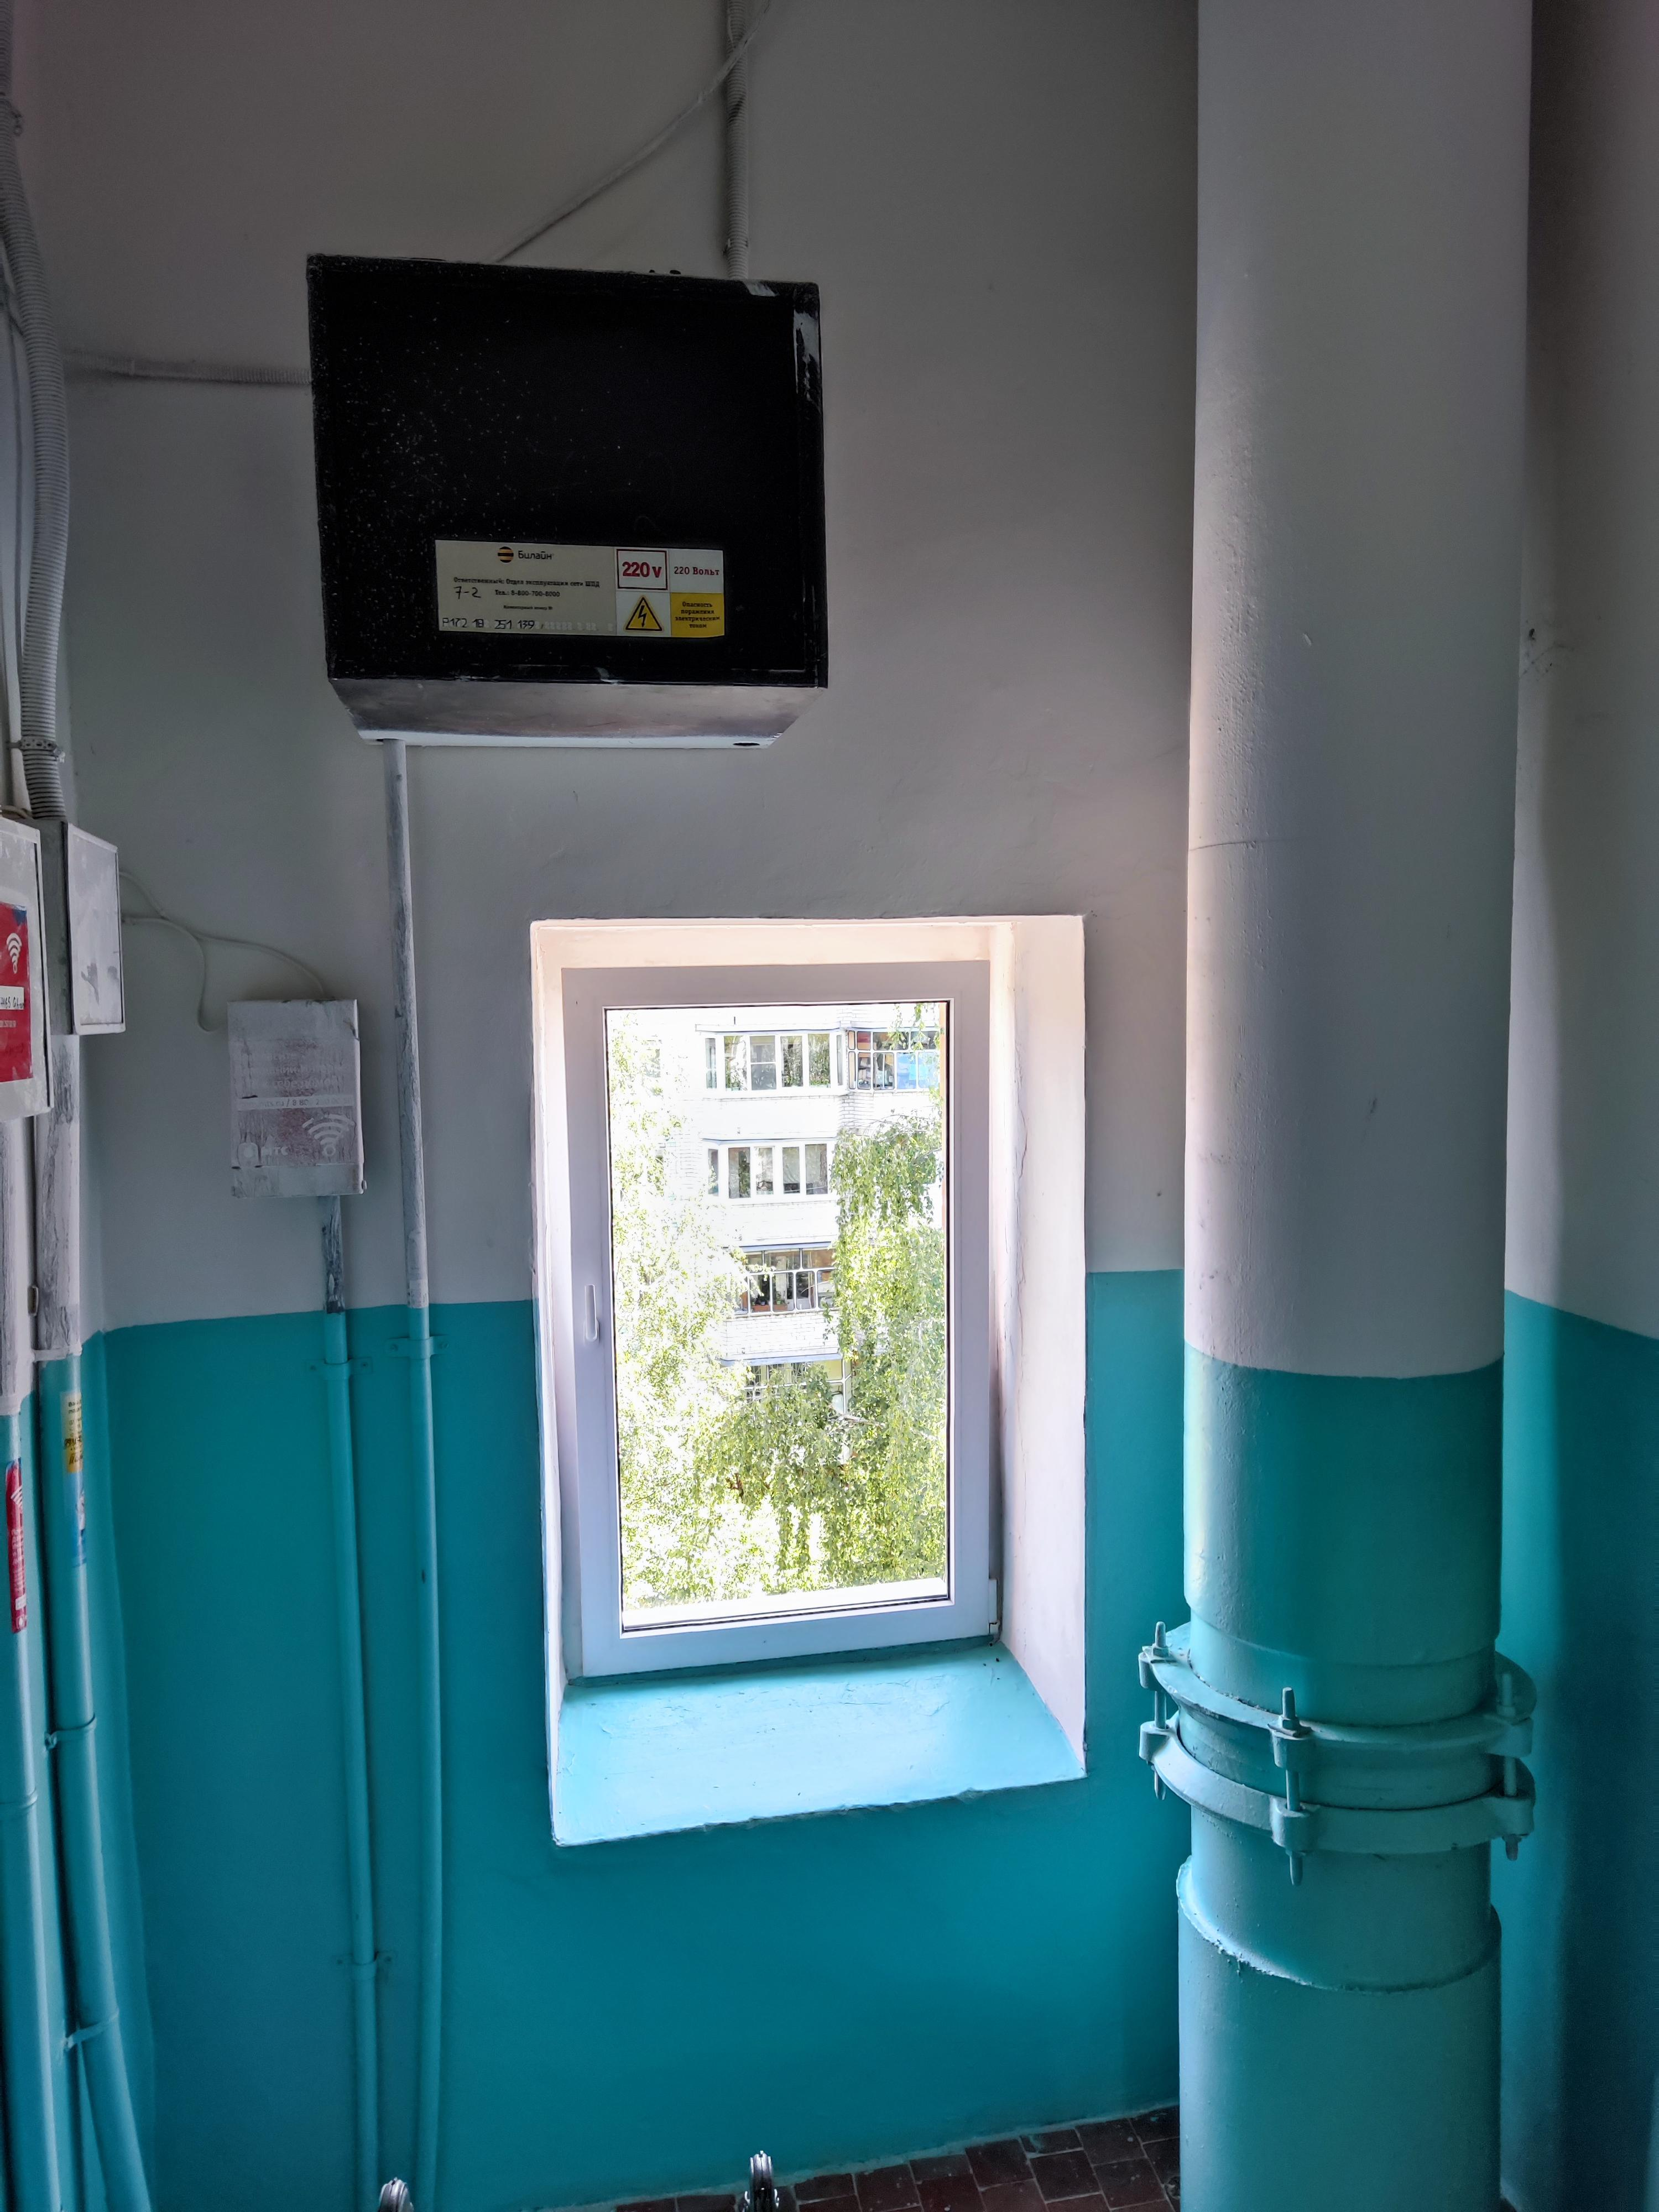shta-9m: (301, 253, 842, 752)
